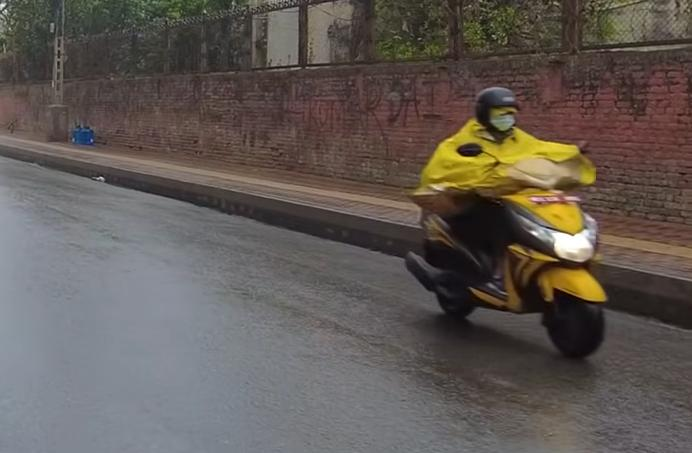scooter: (403, 132, 627, 359)
